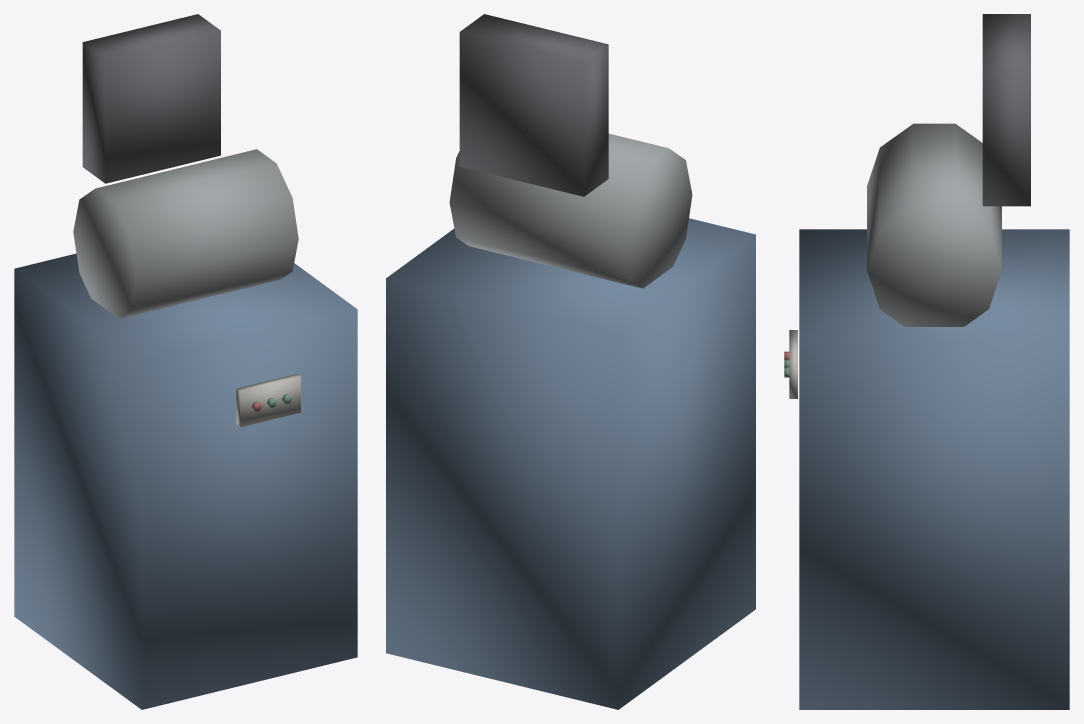
The model's file is tire_changer__compact.glb.
3 views of the same model, side by side, from view 1: azimuth 30°, elevation 25°; view 2: azimuth 150°, elevation 25°; view 3: azimuth 270°, elevation 25° (orthographic). The views are drawn at different scales.
Visible parts, largest first — view 1: world; view 2: world; view 3: world.
Part boxes in pixels (<box>): world: <box>14,14,357,709</box>; world: <box>386,14,755,709</box>; world: <box>784,14,1069,709</box>.
Bounding box in the file's own units: 0.4704 × 1.2 × 0.5083.
